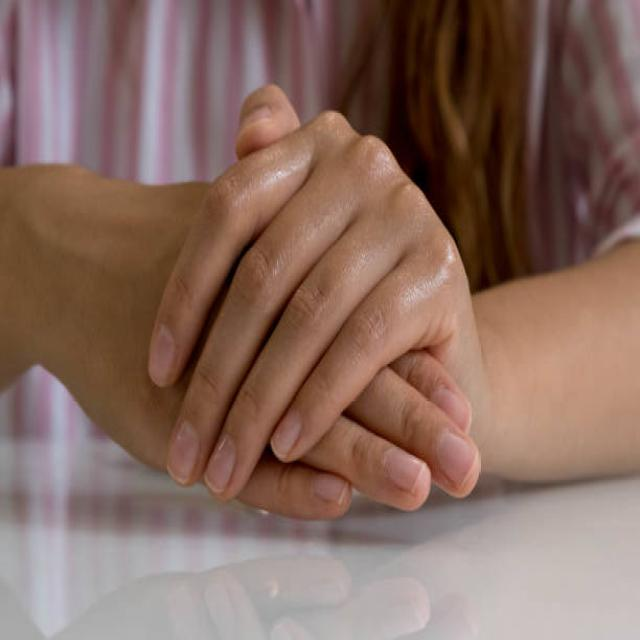Nail: (167, 422, 200, 485), (439, 435, 480, 485), (431, 383, 473, 431), (384, 450, 429, 492), (205, 433, 236, 493), (148, 325, 176, 387), (271, 414, 303, 459), (238, 103, 273, 141)
